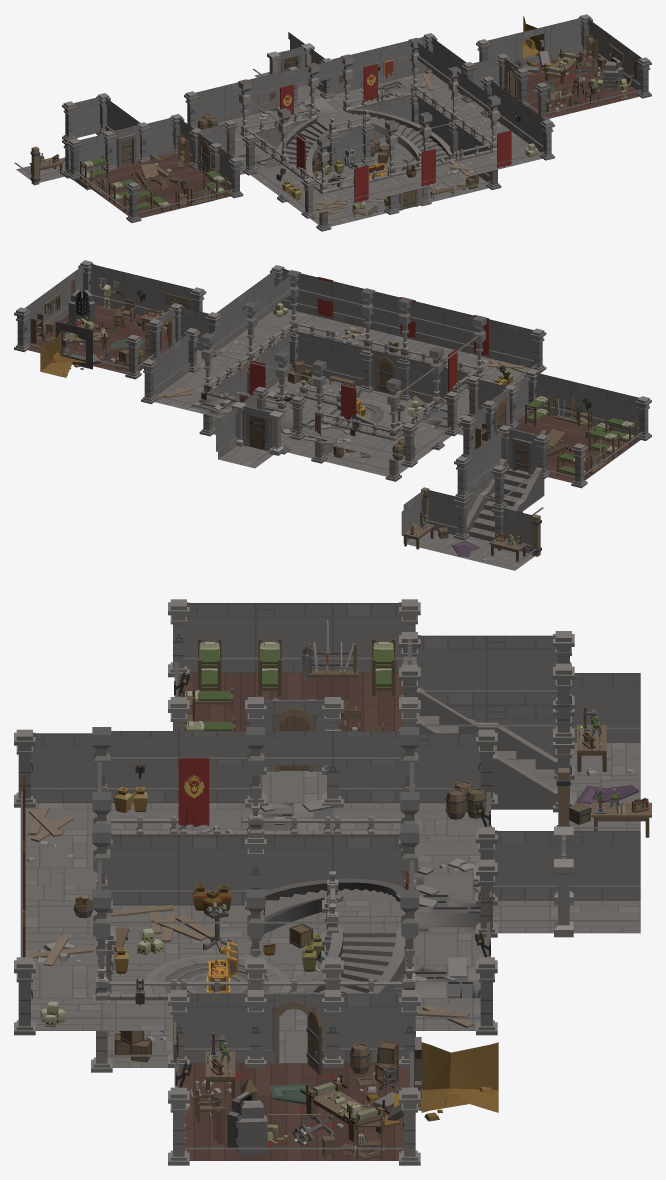
Rendered from dungeon.glb.
The picture shows the model from 3 angles, top to bottom: view 1: azimuth 30°, elevation 25°; view 2: azimuth 150°, elevation 25°; view 3: azimuth 270°, elevation 25°; orthographic projection. The views are drawn at different scales.
Visible parts, largest first — view 1: SD_Env_Stairs_Spiral_01, SD_Env_Stairs_Spiral_02, SD_Env_Goblin_Tunnel_Entrance_01, SD_Env_Wall_57, SD_Env_Wall_114, SD_Env_Wall_70, SD_Env_Wall_21, SD_Env_Wall_22, SD_Env_Wall_01, SD_Env_Wall_69, SD_Env_Wall_36, SD_Prop_Table_02 (+98 smaller); view 2: SD_Env_Stairs_Stone_02, SD_Env_Wall_47, SD_Env_Wall_60, SD_Env_Stairs_Stone_01, SD_Env_Wall_54, SD_Env_Wall_56, SD_Env_Wall_18, SD_Env_Wall_67, SD_Env_Goblin_Tunnel_Entrance_01, SD_Env_Wall_83, SD_Env_Wall_19, SD_Env_Wall_68 (+73 smaller); view 3: SD_Env_Wall_82, SD_Env_Wall_93, SD_Env_Wall_14, SD_Env_Goblin_Tunnel_01, SD_Env_Wall_71, SD_Env_Stairs_Stone_01, SD_Env_Wall_31, SD_Env_Wall_49, SD_Env_Wall_65, SD_Env_Wall_15, SD_Env_Wall_62, SD_Env_Wall_87 (+110 smaller).
Boxes of the visible parts, bbox=[...] form: SD_Env_Stairs_Spiral_01: bbox=[346, 108, 452, 162]; SD_Env_Stairs_Spiral_02: bbox=[276, 117, 330, 177]; SD_Env_Goblin_Tunnel_Entrance_01: bbox=[516, 25, 554, 80]; SD_Env_Wall_57: bbox=[550, 17, 582, 60]; SD_Env_Wall_114: bbox=[73, 97, 100, 137]; SD_Env_Wall_70: bbox=[147, 117, 174, 158]; SD_Env_Wall_21: bbox=[195, 85, 225, 126]; SD_Env_Wall_22: bbox=[224, 77, 259, 120]; SD_Env_Wall_01: bbox=[337, 127, 364, 165]; SD_Env_Wall_69: bbox=[79, 134, 106, 173]; SD_Env_Wall_36: bbox=[508, 93, 529, 142]; SD_Prop_Table_02: bbox=[131, 163, 181, 189]; SD_Env_Stairs_Stone_02: bbox=[482, 458, 544, 510]; SD_Env_Wall_47: bbox=[501, 322, 533, 367]; SD_Env_Wall_60: bbox=[569, 381, 607, 425]; SD_Env_Stairs_Stone_01: bbox=[465, 492, 522, 543]; SD_Env_Wall_54: bbox=[123, 272, 161, 315]; SD_Env_Wall_56: bbox=[90, 264, 124, 310]; SD_Env_Wall_18: bbox=[331, 341, 363, 386]; SD_Env_Wall_67: bbox=[535, 372, 570, 417]; SD_Env_Goblin_Tunnel_Entrance_01: bbox=[55, 321, 108, 369]; SD_Env_Wall_83: bbox=[427, 490, 457, 534]; SD_Env_Wall_19: bbox=[408, 361, 443, 403]; SD_Env_Wall_68: bbox=[606, 390, 639, 435]; SD_Env_Wall_82: bbox=[486, 635, 557, 705]; SD_Env_Wall_93: bbox=[569, 831, 640, 900]; SD_Env_Wall_14: bbox=[107, 837, 178, 905]; SD_Env_Goblin_Tunnel_01: bbox=[421, 1042, 498, 1112]; SD_Env_Wall_71: bbox=[416, 635, 486, 705]; SD_Env_Stairs_Stone_01: bbox=[486, 722, 557, 809]; SD_Env_Wall_31: bbox=[31, 733, 97, 802]; SD_Env_Wall_49: bbox=[493, 831, 557, 900]; SD_Env_Wall_65: bbox=[255, 603, 332, 672]; SD_Env_Wall_15: bbox=[178, 837, 249, 905]; SD_Env_Wall_62: bbox=[184, 603, 255, 672]; SD_Env_Wall_87: bbox=[570, 673, 640, 742].
Size of what is drawn, in the model's own units: 76.4 by 12.73 by 41.42.
Materials: 3 (3 with a texture image).
